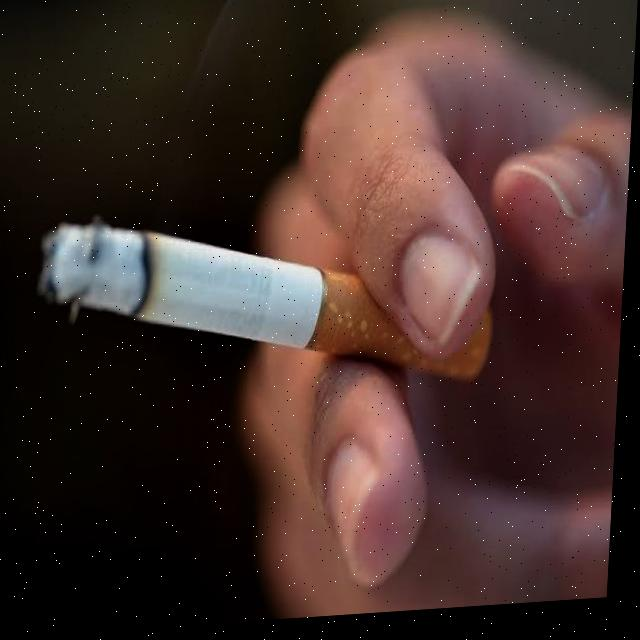cigarette: (36, 196, 496, 411)
